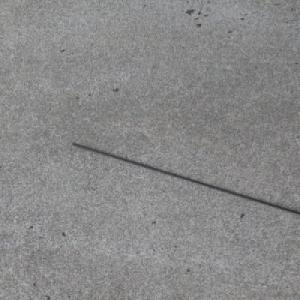LuggagePart: (69, 142, 300, 215)
